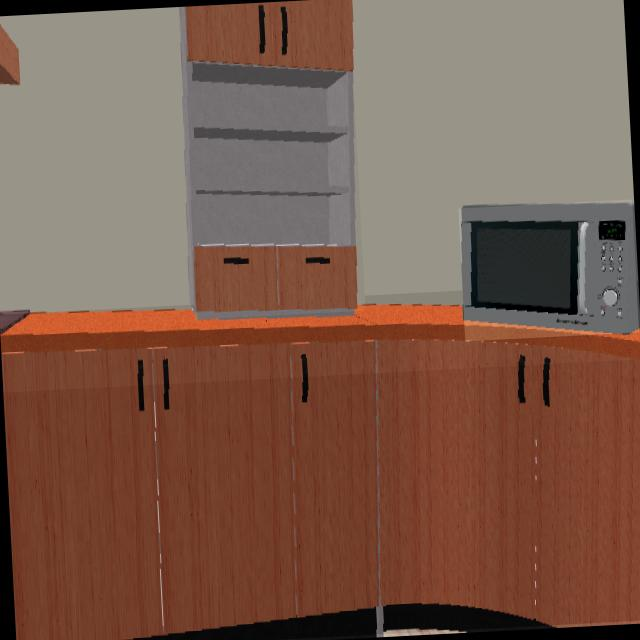cabinet: (2, 339, 640, 640), (183, 3, 357, 313)
countertop: (0, 305, 640, 359)
microwave: (463, 203, 640, 333)
